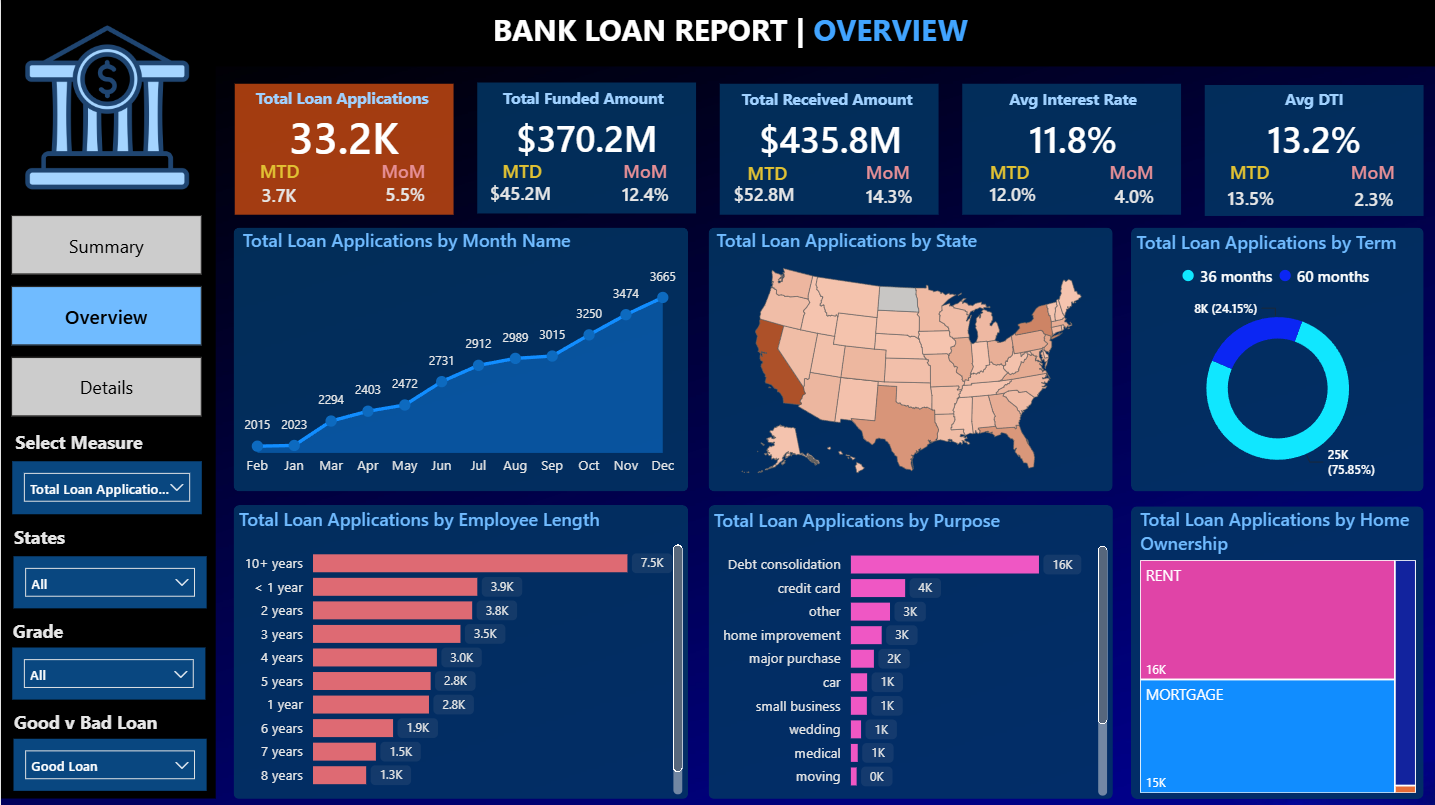

The page's visual inventory and layout, read from the dashboard file:
{"tool":"powerbi","page":{"name":"Overview","canvas":[1280,720],"ordinal":1},"visuals":[{"type":"shape","box":[0,0,191.4,711.1],"z":0},{"type":"shape","box":[0,0,1280.2,59.3],"z":1000},{"type":"textbox","box":[421.6,3.8,462.4,48.5],"z":2000},{"type":"shape","box":[208.6,74.1,194.9,116.6],"z":3000},{"type":"cardVisual","fields":{"Data":["bank_loan_analysis financial_loan.Total Loan Applications"]},"box":[208.3,85,195,72.5],"z":4000},{"type":"textbox","box":[208,72.6,195,31.4],"z":5000},{"type":"cardVisual","title":"MTD","fields":{"Data":["bank_loan_analysis financial_loan.MTD Loan Applications"]},"box":[191.8,144.5,112.7,55.5],"z":6000},{"type":"textbox","box":[208,136,80,37],"z":7000},{"type":"cardVisual","title":"MTD","fields":{"Data":["bank_loan_analysis financial_loan.MoM Loan Applications"]},"box":[311.1,145.8,96.3,53.2],"z":8000},{"type":"shape","box":[424.5,73.9,194.9,116.6],"z":9000},{"type":"cardVisual","fields":{"Data":["bank_loan_analysis financial_loan.Total Funded Amount"]},"box":[424.3,84.4,195,73.3],"z":10000},{"type":"textbox","box":[423.5,72.8,195.1,32.1],"z":11000},{"type":"cardVisual","title":"MTD","fields":{"Data":["bank_loan_analysis financial_loan.MTD Funded Amount"]},"box":[400.2,142.1,126.7,55.8],"z":12000},{"type":"textbox","box":[424.4,135.4,79.9,31.4],"z":13000},{"type":"cardVisual","title":"MTD","fields":{"Data":["bank_loan_analysis financial_loan.MoM Total Funded Amount"]},"box":[515.3,145.8,117.4,52.6],"z":14000},{"type":"textbox","box":[538.6,135.4,69.9,31.4],"z":15000},{"type":"textbox","box":[324.4,135.6,68.9,35.6],"z":16000},{"type":"shape","box":[640.5,75.1,194.9,116.6],"z":17000},{"type":"cardVisual","fields":{"Data":["bank_loan_analysis financial_loan.Total Amount Received"]},"box":[641,85.6,195,73.6],"z":18000},{"type":"textbox","box":[640.5,73.1,195,31.7],"z":19000},{"type":"cardVisual","title":"MTD","fields":{"Data":["bank_loan_analysis financial_loan.MTD Total Amount Received"]},"box":[616.9,143.3,126.7,55.8],"z":20000},{"type":"textbox","box":[641.2,137.5,82.5,33.8],"z":21000},{"type":"cardVisual","title":"MTD","fields":{"Data":["bank_loan_analysis financial_loan.MoM Total Amount Received"]},"box":[732.1,147.4,117.4,52.1],"z":22000},{"type":"textbox","box":[755,137,70,38],"z":23000},{"type":"shape","box":[856.5,75.1,194.9,116.6],"z":24000},{"type":"cardVisual","fields":{"Data":["bank_loan_analysis financial_loan.Avg Interest Rate"]},"box":[857.7,85.6,195,73.6],"z":25000},{"type":"textbox","box":[857.2,73.1,195,31.7],"z":26000},{"type":"cardVisual","title":"MTD","fields":{"Data":["bank_loan_analysis financial_loan.MTD Avg Interest Rate"]},"box":[841.1,143.5,119.2,55.8],"z":27000},{"type":"textbox","box":[858,137,80,36],"z":28000},{"type":"cardVisual","title":"MTD","fields":{"Data":["bank_loan_analysis financial_loan.MoM Avg Interest Rate"]},"box":[950.5,146.8,117.4,52.6],"z":29000},{"type":"textbox","box":[972,137,70,40],"z":30000},{"type":"shape","box":[1072.4,75.8,194.9,116.6],"z":31000},{"type":"cardVisual","fields":{"Data":["bank_loan_analysis financial_loan.Avg DTI"]},"box":[1072.1,86.3,195,73.6],"z":32000},{"type":"textbox","box":[1071.6,73.8,195,31.7],"z":33000},{"type":"cardVisual","title":"MTD","fields":{"Data":["bank_loan_analysis financial_loan.MTD Avg DTI"]},"box":[1053,147,120,55],"z":34000},{"type":"textbox","box":[1072.2,137.3,79.9,31.4],"z":35000},{"type":"cardVisual","title":"MTD","fields":{"Data":["bank_loan_analysis financial_loan.MoM Avg DTI"]},"box":[1166.3,150.5,112.1,52.1],"z":36000},{"type":"textbox","box":[1186.4,137.3,69.9,31.4],"z":37000},{"type":"shape","box":[207.4,202.5,405,235],"z":38000},{"type":"slicer","fields":{"Values":["bank_loan_analysis financial_loan.address_state"]},"box":[11.1,495.7,172,46.4],"z":39000},{"type":"textbox","box":[6.7,462.3,67.7,34.5],"z":40000},{"type":"slicer","fields":{"Values":["bank_loan_analysis financial_loan.grade"]},"box":[10.3,577.1,172,46.4],"z":41000},{"type":"textbox","box":[5.8,545.7,67.3,34.4],"z":42000},{"type":"slicer","fields":{"Values":["bank_loan_analysis financial_loan.Good v Bad Loan"]},"box":[10.7,657.4,172,46.4],"z":43000},{"type":"textbox","box":[6.7,626.5,158.4,34.5],"z":44000},{"type":"areaChart","fields":{"Y":["bank_loan_analysis financial_loan.Total Amount Received"],"Category":["Date Table.Month Name"]},"box":[210.8,203.1,397.3,229.9],"z":45000},{"type":"slicer","fields":{"Values":["Select Measure.Select Measure"]},"box":[10.1,410.5,168.6,47.3],"z":46000},{"type":"textbox","box":[7.5,377.3,139.2,34.5],"z":47000},{"type":"shape","box":[629.8,203.1,360,235],"z":48000},{"type":"shapeMap","fields":{"Value":["bank_loan_analysis financial_loan.Total Amount Received"],"Category":["bank_loan_analysis financial_loan.address_state"]},"box":[632.3,203.1,357.7,233.8],"z":49000},{"type":"shape","box":[1006.6,203.1,260.6,235],"z":50000},{"type":"shape","box":[206.9,449.7,405,261.9],"z":52000},{"type":"barChart","fields":{"Y":["bank_loan_analysis financial_loan.Total Amount Received"],"Category":["bank_loan_analysis financial_loan.emp_length"]},"box":[206.9,450.9,405,261.9],"z":53000},{"type":"shape","box":[629.8,449.7,360.2,261.9],"z":54000},{"type":"barChart","fields":{"Y":["bank_loan_analysis financial_loan.Total Amount Received"],"Category":["bank_loan_analysis financial_loan.purpose"]},"box":[629.8,452.2,360.2,261.9],"z":55000},{"type":"shape","box":[1006.6,450.9,260.6,260.6],"z":56000},{"type":"treemap","fields":{"Values":["bank_loan_analysis financial_loan.Total Amount Received"],"Group":["bank_loan_analysis financial_loan.home_ownership"]},"box":[1009.2,450.9,255.5,260.6],"z":57000},{"type":"pageNavigator","box":[8.6,191.4,170,180],"z":58000},{"type":"image","box":[18.6,14.3,151.4,162.9],"z":59000},{"type":"donutChart","fields":{"Category":["bank_loan_analysis financial_loan.term"],"Y":["bank_loan_analysis financial_loan.Total Amount Received"]},"box":[1006.4,203.7,261.7,233.4],"z":59001}]}

Visuals, with their boxes in screenshot pixels (x1, y1, x2, y2), scaled from the page's 1280x720 canvas onto the 1435x805 screenshot:
shape: rect(0, 0, 215, 795)
shape: rect(0, 0, 1434, 66)
textbox: rect(473, 4, 991, 58)
shape: rect(234, 83, 452, 213)
cardVisual - bank_loan_analysis financial_loan.Total Loan Applications: rect(234, 95, 452, 176)
textbox: rect(233, 81, 452, 116)
"MTD" cardVisual: rect(215, 162, 341, 224)
textbox: rect(233, 152, 323, 193)
"MTD" cardVisual: rect(349, 163, 457, 222)
shape: rect(476, 83, 694, 213)
cardVisual - bank_loan_analysis financial_loan.Total Funded Amount: rect(476, 94, 694, 176)
textbox: rect(475, 81, 694, 117)
"MTD" cardVisual: rect(449, 159, 591, 221)
textbox: rect(476, 151, 565, 186)
"MTD" cardVisual: rect(578, 163, 709, 222)
textbox: rect(604, 151, 682, 186)
textbox: rect(364, 152, 441, 191)
shape: rect(718, 84, 937, 214)
cardVisual - bank_loan_analysis financial_loan.Total Amount Received: rect(719, 96, 937, 178)
textbox: rect(718, 82, 937, 117)
"MTD" cardVisual: rect(692, 160, 834, 223)
textbox: rect(719, 154, 811, 192)
"MTD" cardVisual: rect(821, 165, 952, 223)
textbox: rect(846, 153, 925, 196)
shape: rect(960, 84, 1179, 214)
cardVisual - bank_loan_analysis financial_loan.Avg Interest Rate: rect(962, 96, 1180, 178)
textbox: rect(961, 82, 1180, 117)
"MTD" cardVisual: rect(943, 160, 1077, 223)
textbox: rect(962, 153, 1052, 193)
"MTD" cardVisual: rect(1066, 164, 1197, 223)
textbox: rect(1090, 153, 1168, 198)
shape: rect(1202, 85, 1421, 215)
cardVisual - bank_loan_analysis financial_loan.Avg DTI: rect(1202, 96, 1421, 179)
textbox: rect(1201, 83, 1420, 118)
"MTD" cardVisual: rect(1181, 164, 1315, 226)
textbox: rect(1202, 154, 1292, 189)
"MTD" cardVisual: rect(1308, 168, 1433, 227)
textbox: rect(1330, 154, 1408, 189)
shape: rect(233, 226, 687, 489)
slicer - bank_loan_analysis financial_loan.address_state: rect(12, 554, 205, 606)
textbox: rect(8, 517, 83, 555)
slicer - bank_loan_analysis financial_loan.grade: rect(12, 645, 204, 697)
textbox: rect(7, 610, 82, 649)
slicer - bank_loan_analysis financial_loan.Good v Bad Loan: rect(12, 735, 205, 787)
textbox: rect(8, 700, 185, 739)
areaChart - bank_loan_analysis financial_loan.Total Amount Received x Date Table.Month Name: rect(236, 227, 682, 484)
slicer - Select Measure.Select Measure: rect(11, 459, 200, 512)
textbox: rect(8, 422, 164, 460)
shape: rect(706, 227, 1110, 490)
shapeMap - bank_loan_analysis financial_loan.Total Amount Received x bank_loan_analysis financial_loan.address_state: rect(709, 227, 1110, 488)
shape: rect(1128, 227, 1421, 490)
shape: rect(232, 503, 686, 796)
barChart - bank_loan_analysis financial_loan.Total Amount Received x bank_loan_analysis financial_loan.emp_length: rect(232, 504, 686, 797)
shape: rect(706, 503, 1110, 796)
barChart - bank_loan_analysis financial_loan.Total Amount Received x bank_loan_analysis financial_loan.purpose: rect(706, 506, 1110, 798)
shape: rect(1128, 504, 1421, 795)
treemap - bank_loan_analysis financial_loan.Total Amount Received x bank_loan_analysis financial_loan.home_ownership: rect(1131, 504, 1418, 795)
pageNavigator: rect(10, 214, 200, 415)
image: rect(21, 16, 191, 198)
donutChart - bank_loan_analysis financial_loan.term x bank_loan_analysis financial_loan.Total Amount Received: rect(1128, 228, 1422, 489)
